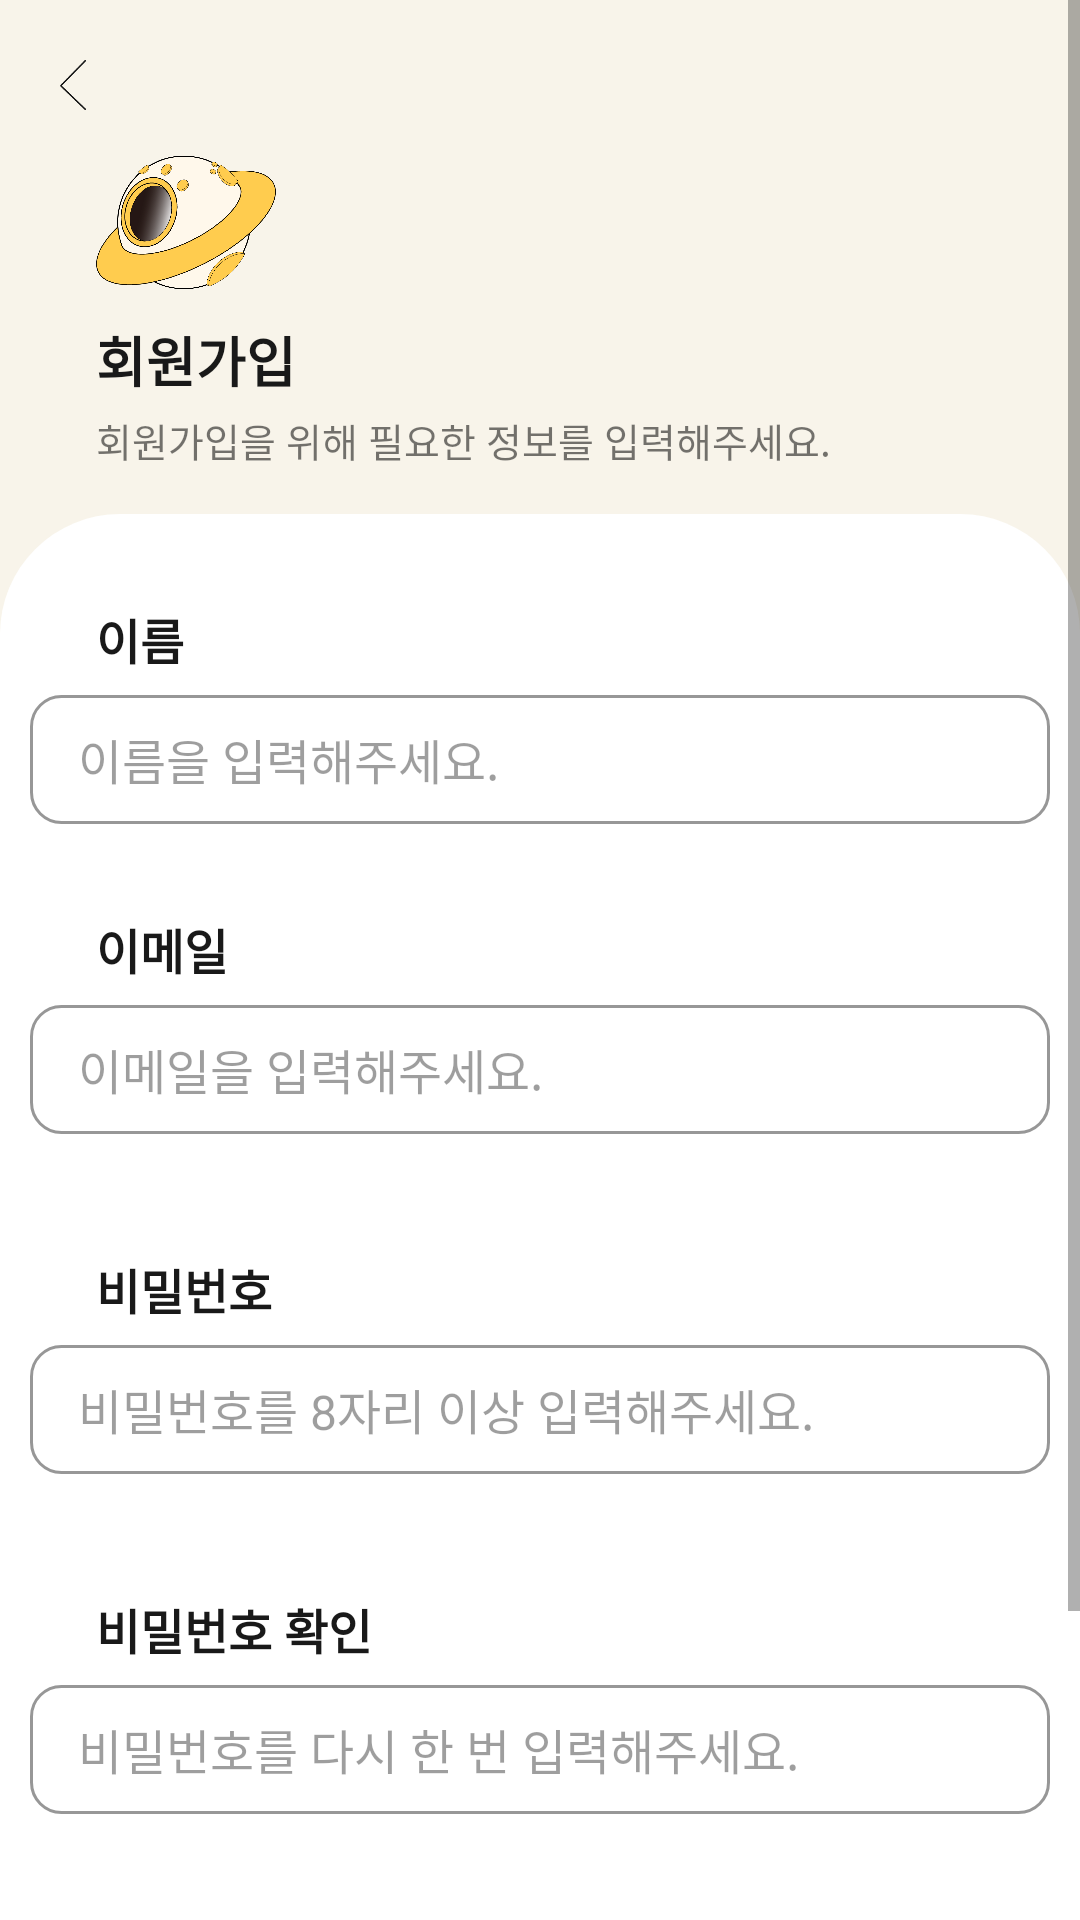

Icon bounding boxes for this 1080w x 1920h phone screenshot, format {"x1": x1, "y1": y1, "x2": x2, "y2": y2}:
backbtn: {"x1": 60, "y1": 60, "x2": 86, "y2": 110}
